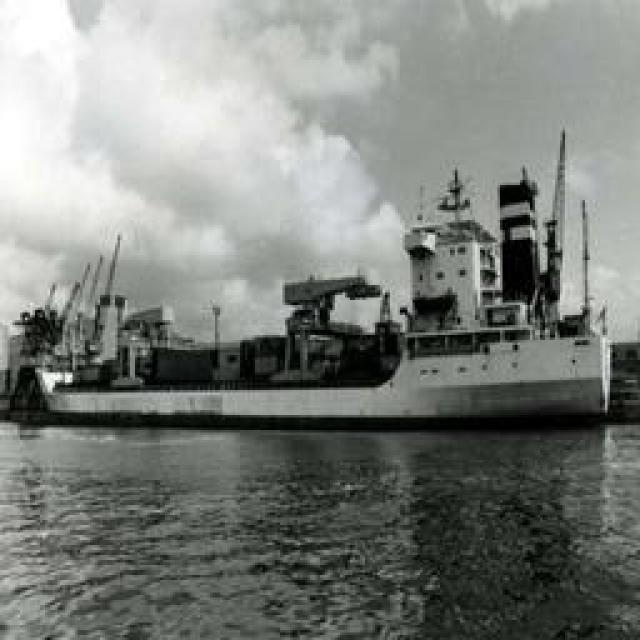Ship: (10, 216, 633, 426)
